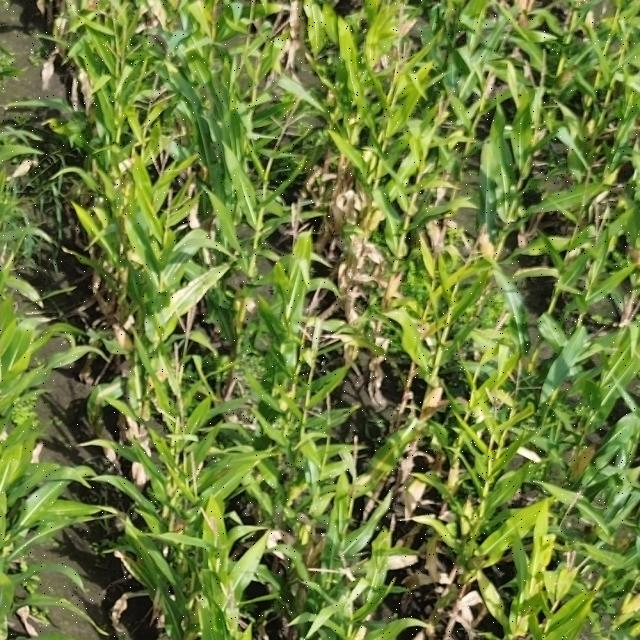gray-leaf-spot: (35, 496, 86, 540), (537, 313, 577, 357)
